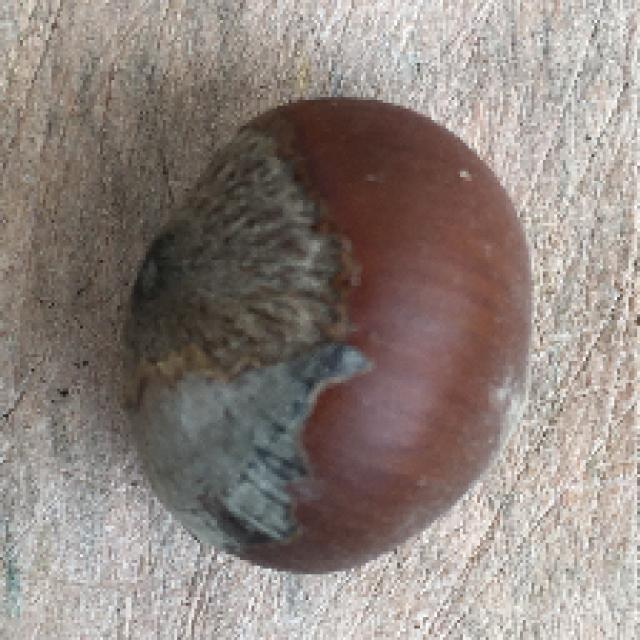damagedHazelnut: (122, 78, 546, 573)
